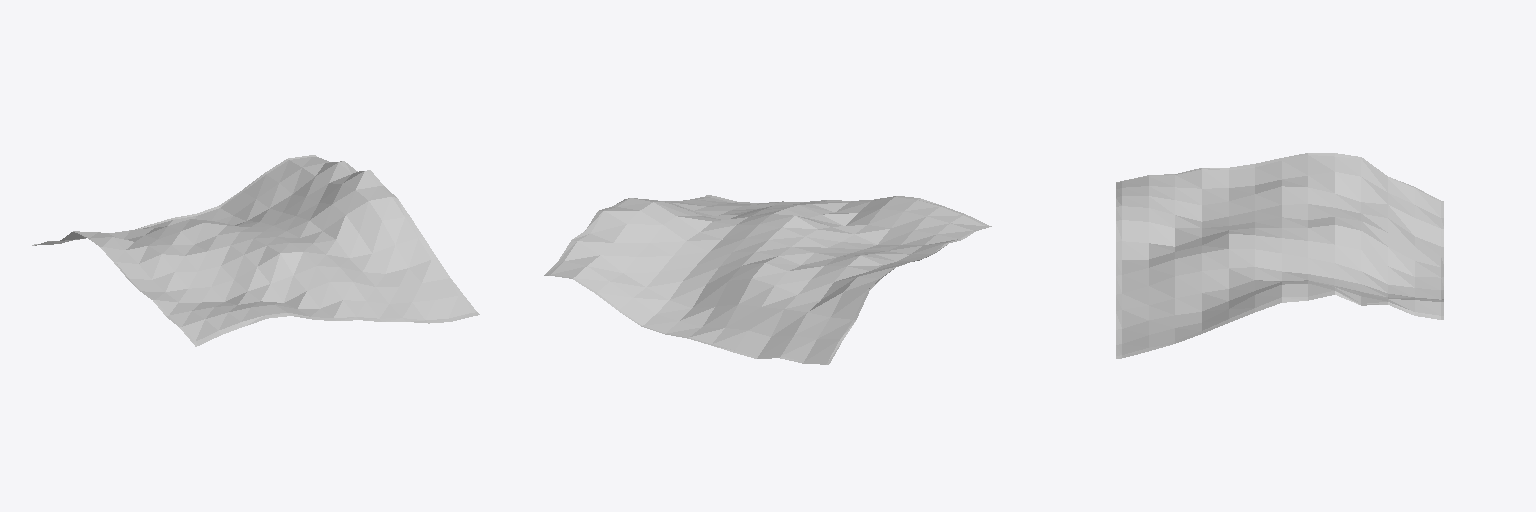
File: Landscape.049.obj
3 renders of one model, left to right at view 1: azimuth 30°, elevation 25°; view 2: azimuth 150°, elevation 25°; view 3: azimuth 270°, elevation 25°, orthographic.
Parts seen in each view (by area): view 1: Landscape.049; view 2: Landscape.049; view 3: Landscape.049.
Part boxes in pixels (x1,y1,x2,y2): Landscape.049: (32, 155, 479, 346); Landscape.049: (544, 195, 991, 364); Landscape.049: (1116, 153, 1443, 358).
Bounding box in the file's own units: 32 × 7.23 × 32.